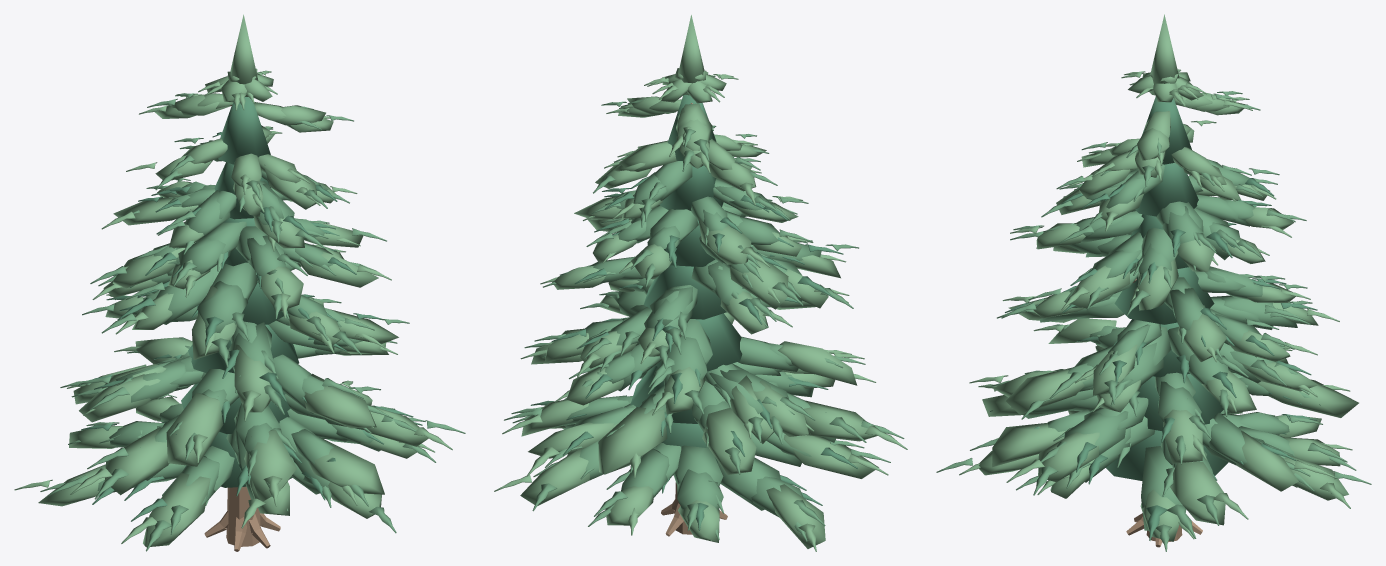
File: Pine_1.gltf
The picture shows the model from 3 angles, left to right: view 1: azimuth 30°, elevation 25°; view 2: azimuth 150°, elevation 25°; view 3: azimuth 270°, elevation 25°; orthographic projection. The views are drawn at different scales.
Parts seen in each view (by area): view 1: Pine_1; view 2: Pine_1; view 3: Pine_1.
Boxes of the visible parts, x1,y1,x2,y2 form: Pine_1: [14, 14, 465, 551]; Pine_1: [494, 15, 907, 551]; Pine_1: [936, 14, 1371, 551].
Size of the model in its own units: 3.93 by 5.19 by 3.93.
